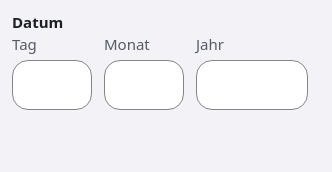
Test: DateFields › lässt nur Ziffern zu und zeigt bei unmöglichem Datum eine Meldung
The width and height of the screenshot is (332, 172).
Type "3x1" into the field labelled "Tag" at (52, 85), box [12,60,92,110]
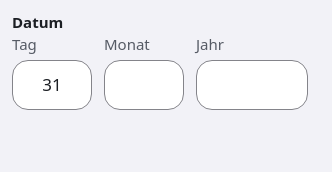
Now the field labelled "Tag" holds "31", box [12,60,92,110]
Type "2" into the field labelled "Monat" at (144, 85), box [104,60,184,110]
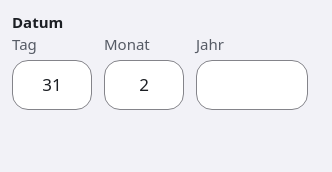
Type "2026" into the field labelled "Jahr" at (252, 85), box [196,60,308,110]
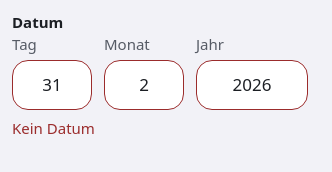
Now the message reads "Kein Datum", box [12,118,95,138]
